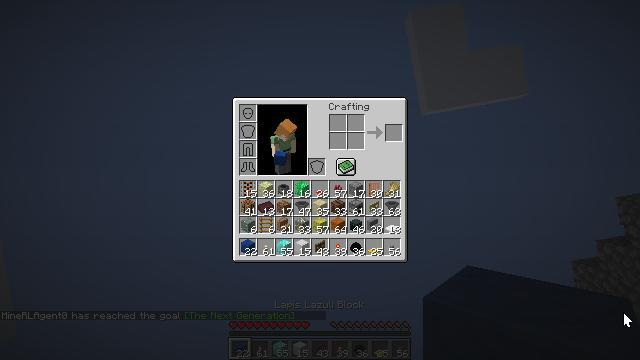cursor: (623, 312, 633, 328)
